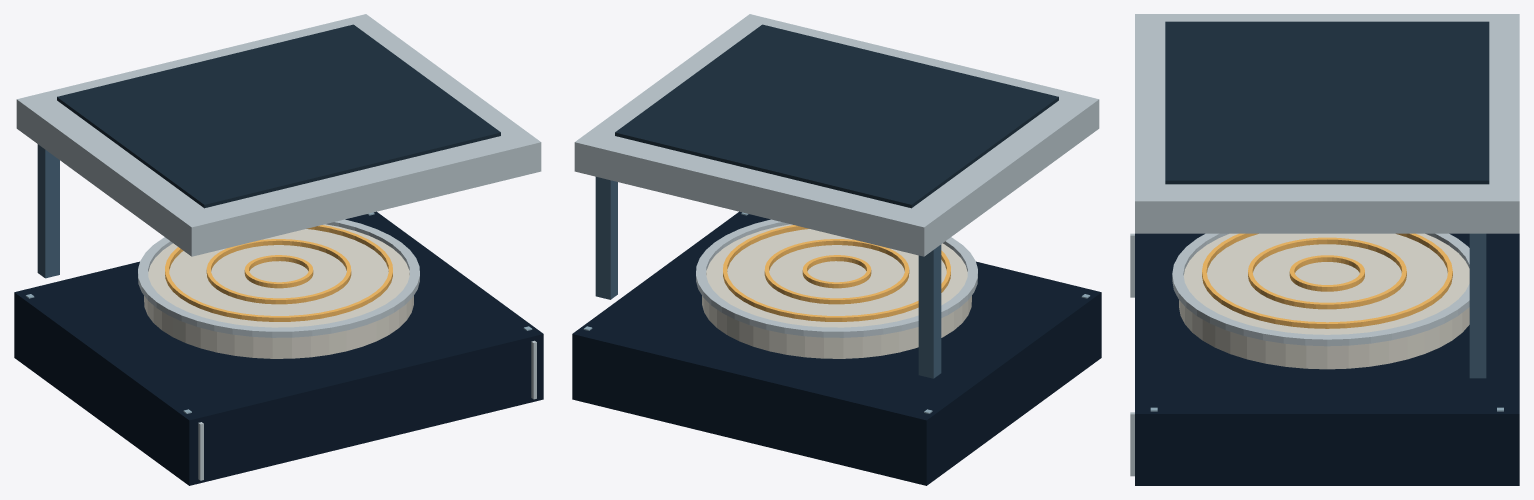
Rendered from 42_L74_PostExposureBakeModule.fbx.
The picture shows the model from 3 angles, left to right: view 1: azimuth 30°, elevation 25°; view 2: azimuth 150°, elevation 25°; view 3: azimuth 270°, elevation 25°; orthographic projection. The views are drawn at different scales.
Visible parts, largest first — view 1: PostExposureBakeModule, PostExposureBakeModule_Part_0013, PostExposureBakeModule_Part_0012; view 2: PostExposureBakeModule, PostExposureBakeModule_Part_0013, PostExposureBakeModule_Part_0012; view 3: PostExposureBakeModule, PostExposureBakeModule_Part_0013, PostExposureBakeModule_Part_0012.
Part boxes in pixels (<box>): PostExposureBakeModule: <box>14,144,543,485</box>; PostExposureBakeModule_Part_0013: <box>57,24,500,208</box>; PostExposureBakeModule_Part_0012: <box>16,14,541,256</box>; PostExposureBakeModule: <box>572,177,1101,485</box>; PostExposureBakeModule_Part_0013: <box>615,24,1058,208</box>; PostExposureBakeModule_Part_0012: <box>574,14,1099,256</box>; PostExposureBakeModule: <box>1130,233,1519,485</box>; PostExposureBakeModule_Part_0013: <box>1165,21,1489,184</box>; PostExposureBakeModule_Part_0012: <box>1135,14,1519,233</box>.
Size of the model in its own units: 215 by 153 by 186.
